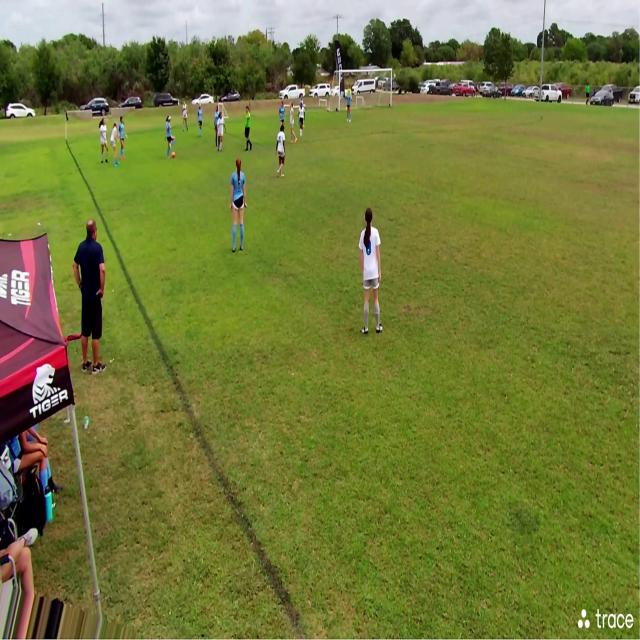ball: (171, 151, 176, 159)
team1: (232, 158, 250, 252), (166, 114, 176, 159), (119, 117, 128, 164), (290, 102, 299, 143), (345, 87, 353, 124), (278, 101, 285, 140), (198, 106, 205, 138), (214, 106, 220, 120)
team2: (359, 207, 386, 341), (276, 126, 287, 180), (216, 112, 226, 156), (99, 118, 108, 164), (111, 121, 120, 165), (298, 101, 307, 142), (182, 102, 190, 134)
